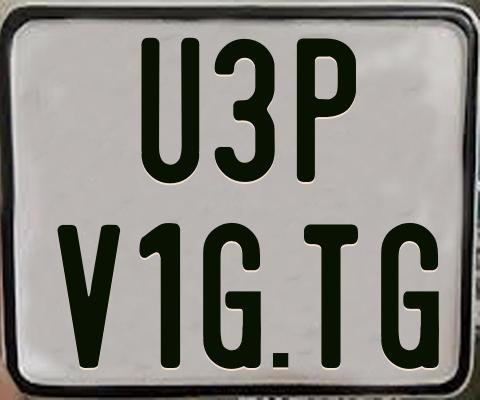1: (137, 223, 182, 372)
3: (213, 36, 279, 183)
G: (201, 221, 265, 371), (381, 220, 443, 372)
P: (295, 37, 359, 187)
T: (301, 224, 358, 373)
U: (141, 38, 201, 185)
V: (57, 222, 125, 366)
